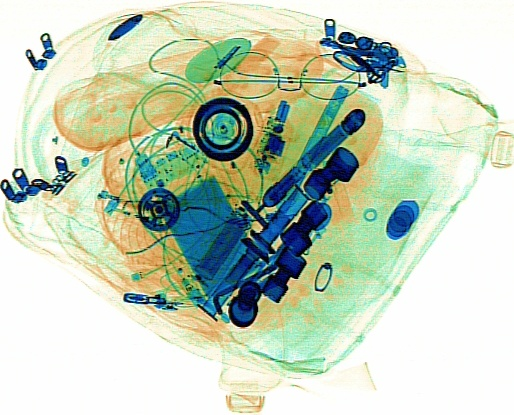knife: (278, 84, 352, 205)
